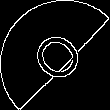O_SE: (21, 22, 89, 88)
